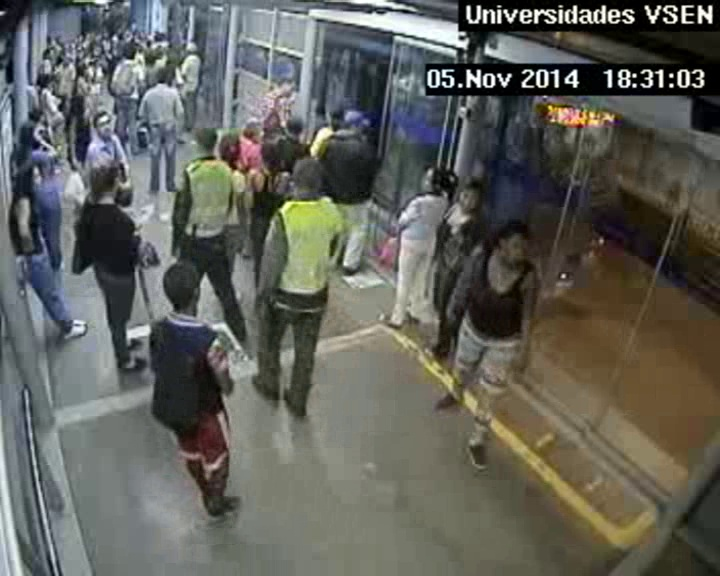person: (164, 261, 203, 309), (494, 224, 529, 269), (293, 159, 326, 191), (91, 165, 121, 200), (423, 168, 451, 197), (91, 111, 117, 138), (192, 129, 217, 156), (217, 135, 241, 163), (19, 165, 44, 189), (459, 183, 481, 210), (259, 143, 281, 166), (345, 113, 366, 135), (244, 124, 263, 144), (285, 116, 304, 136), (36, 131, 54, 150), (329, 112, 346, 131), (70, 97, 87, 114), (22, 126, 38, 144), (279, 78, 294, 95), (155, 68, 169, 83), (122, 44, 136, 58), (32, 110, 46, 124), (41, 74, 54, 88), (100, 39, 114, 52), (185, 41, 198, 54), (145, 49, 156, 62), (92, 45, 103, 57), (166, 64, 177, 76), (167, 53, 179, 64), (155, 44, 165, 56), (44, 48, 54, 59), (61, 54, 71, 65), (80, 66, 89, 76), (56, 35, 65, 44), (91, 61, 99, 69), (139, 31, 147, 39), (77, 34, 84, 42), (95, 33, 102, 41), (155, 34, 162, 41), (102, 24, 109, 31), (116, 27, 122, 34), (125, 29, 131, 36), (146, 41, 152, 48), (85, 33, 91, 39)
